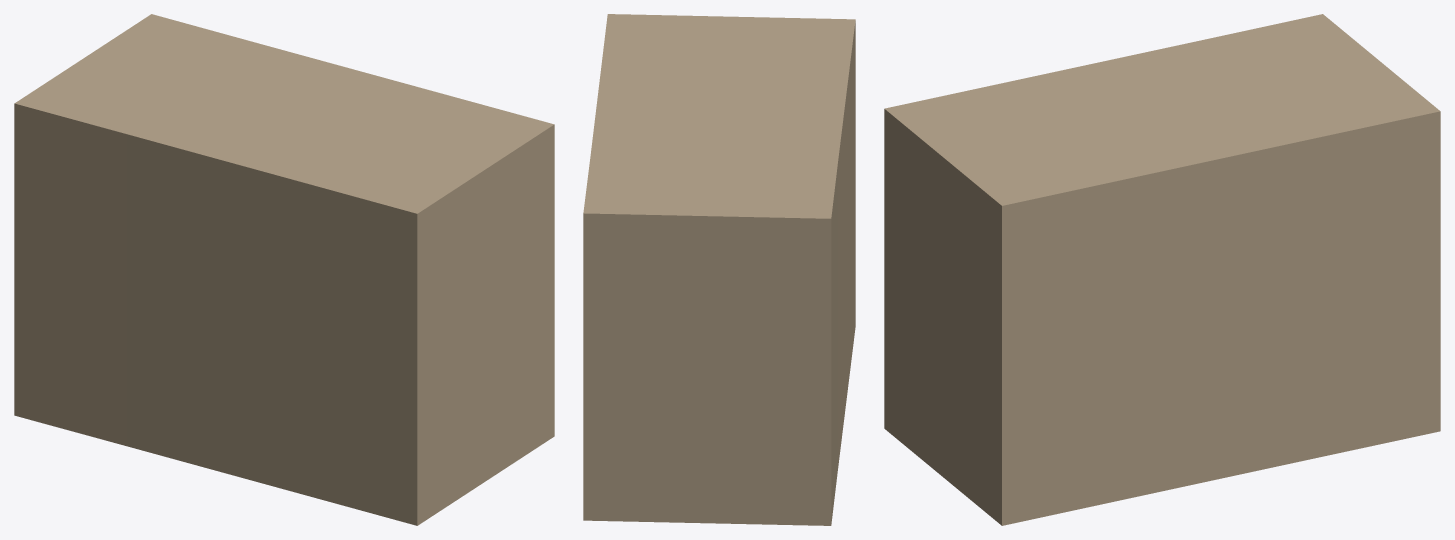
File: bld_107610519.dae
3 renders of one model, left to right at view 1: azimuth 30°, elevation 25°; view 2: azimuth 150°, elevation 25°; view 3: azimuth 270°, elevation 25°, orthographic. The views are drawn at different scales.
Visible parts, largest first — view 1: bld_107610519; view 2: bld_107610519; view 3: bld_107610519.
Part boxes in pixels (x1,y1,x2,y2): bld_107610519: (14,14,554,525); bld_107610519: (583,14,855,525); bld_107610519: (884,14,1440,525).
Size of the model in its own units: 10.29 by 12.6 by 8.
